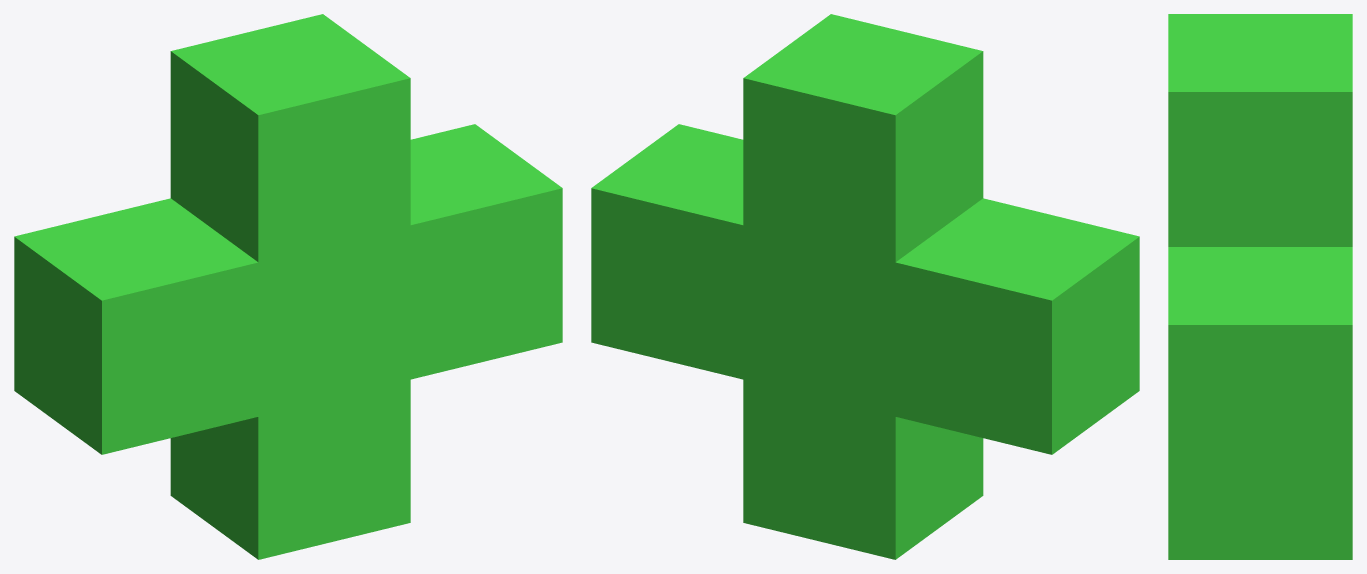
The model's file is Pick-Ups_Vida.fbx.
The picture shows the model from 3 angles, left to right: view 1: azimuth 30°, elevation 25°; view 2: azimuth 150°, elevation 25°; view 3: azimuth 270°, elevation 25°; orthographic projection. The views are drawn at different scales.
Parts seen in each view (by area): view 1: Vida; view 2: Vida; view 3: Vida.
Boxes of the visible parts, box(x1,y1,x2,y2) form: Vida: box(14, 14, 562, 559); Vida: box(591, 14, 1139, 559); Vida: box(1168, 14, 1352, 559).
Bounding box in the file's own units: 200 × 184 × 65.88.
